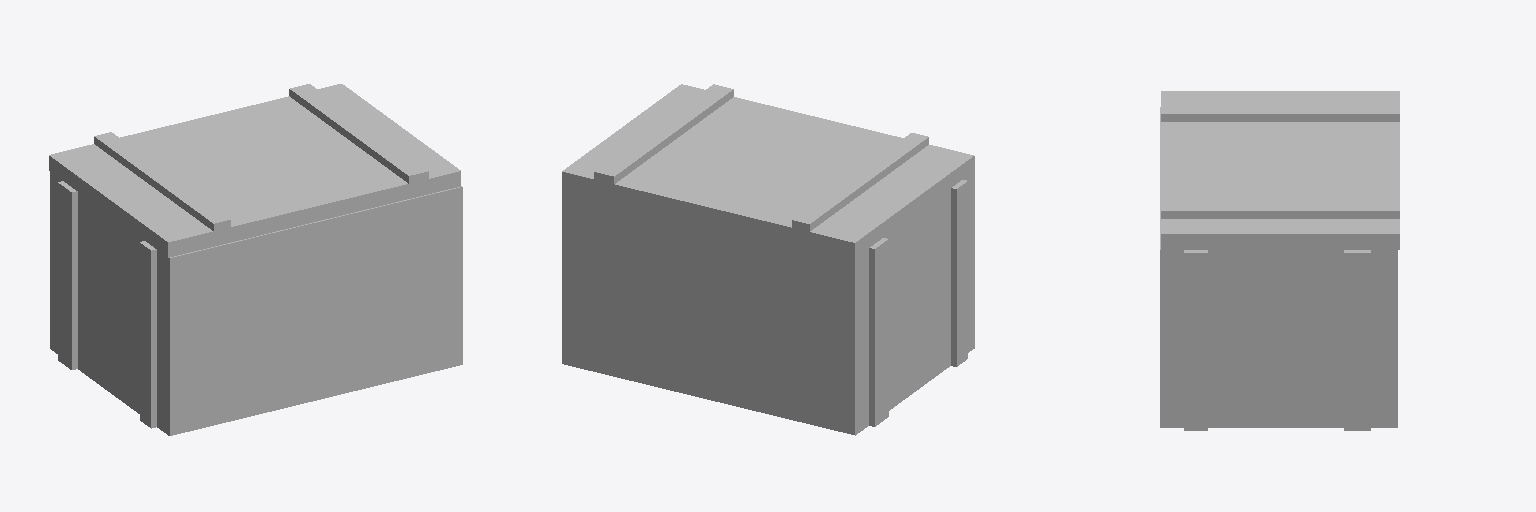
The model's file is ammo.obj.
3 views of the same model, side by side, from view 1: azimuth 30°, elevation 25°; view 2: azimuth 150°, elevation 25°; view 3: azimuth 270°, elevation 25° (orthographic).
Parts seen in each view (by area): view 1: ammo_box polySurface88, ammo_box ammo_box; view 2: ammo_box polySurface88, ammo_box ammo_box; view 3: ammo_box polySurface88, ammo_box ammo_box.
Part boxes in pixels (left/top/right/bottom): ammo_box polySurface88: left=50, top=172, right=462, bottom=435; ammo_box ammo_box: left=49, top=84, right=460, bottom=257; ammo_box polySurface88: left=562, top=171, right=974, bottom=435; ammo_box ammo_box: left=562, top=84, right=974, bottom=257; ammo_box polySurface88: left=1160, top=107, right=1397, bottom=430; ammo_box ammo_box: left=1161, top=91, right=1399, bottom=249.
Bounding box in the file's own units: 104 × 65.53 × 71.09.